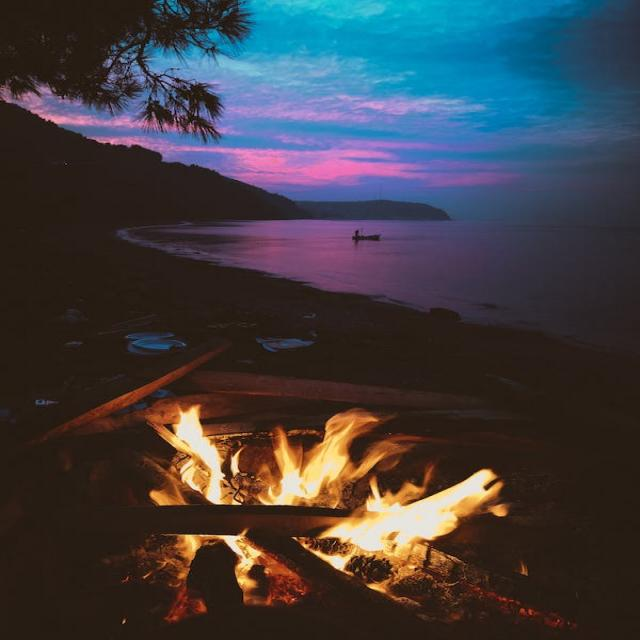fire: (121, 364, 530, 608)
